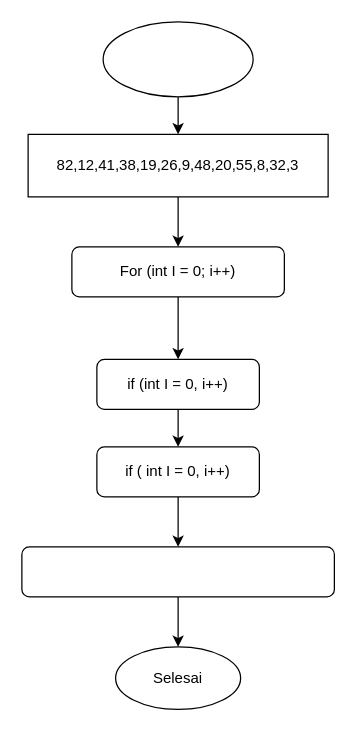
This 356x731 diagram has some shape labels left out. The centre of each missing label's shape, as x and y in pixels:
Mulai: (177,59)
Write ("Angka " + cari +" ada di index ke: (177,571)
